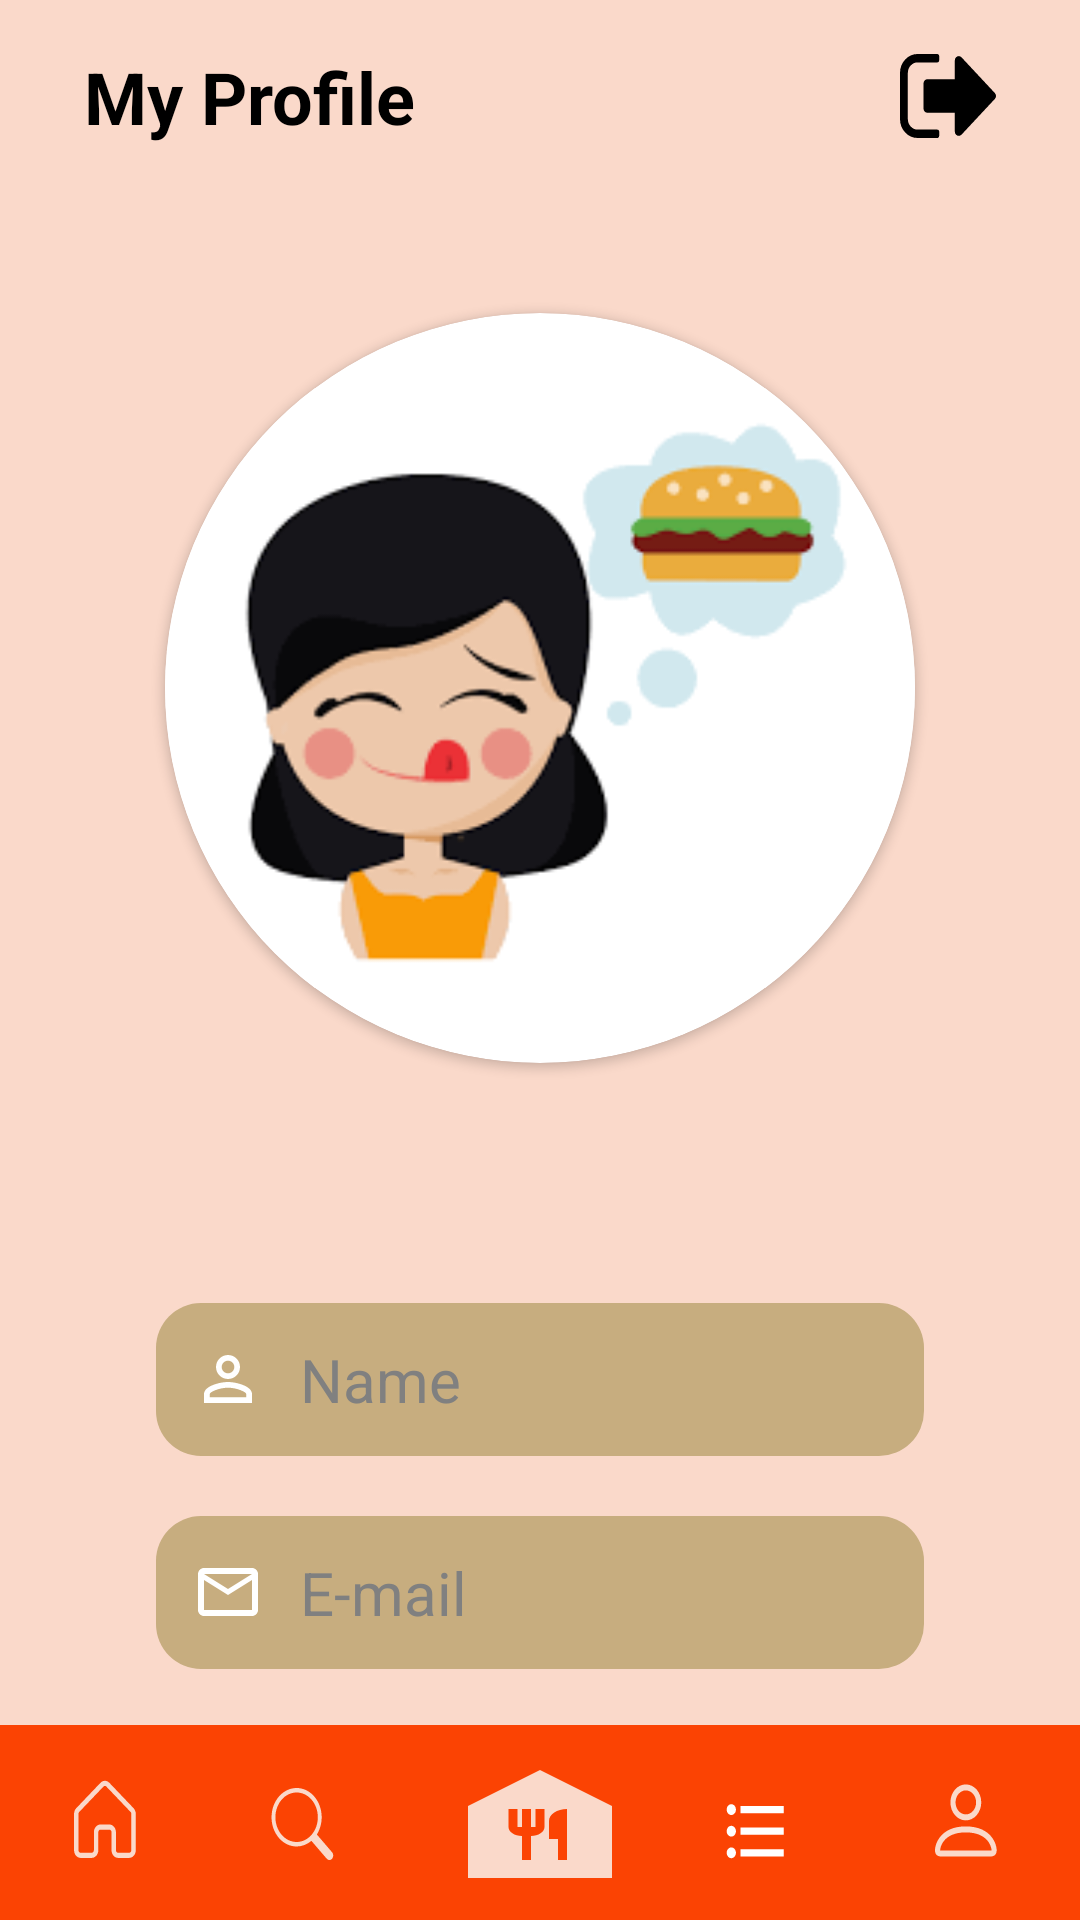

Point at icon controls on the screen. Image size 1080px x 1920px, points as (x=x, y=y).
food: (x=540, y=1824)
home: (x=105, y=1819)
orders: (x=755, y=1831)
search: (x=302, y=1824)
user: (x=966, y=1820)
